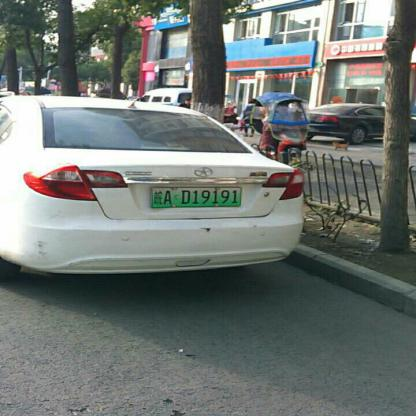lp: (150, 186, 243, 206)
